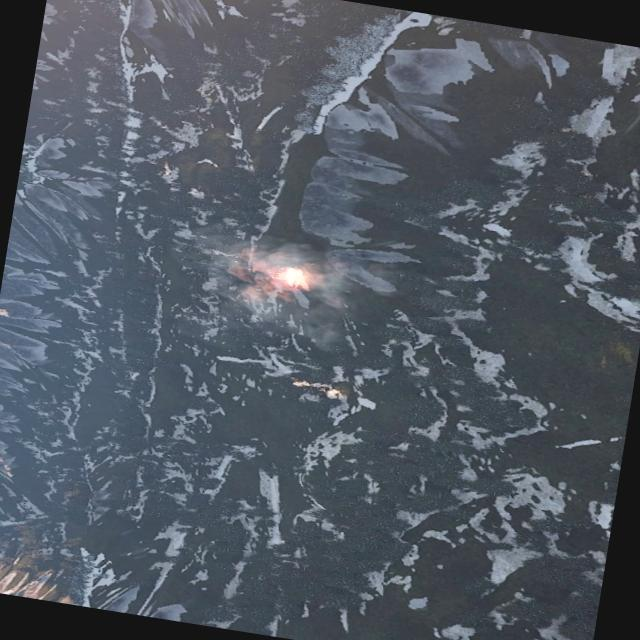fire: (274, 264, 314, 290)
smoke: (196, 228, 374, 354)
